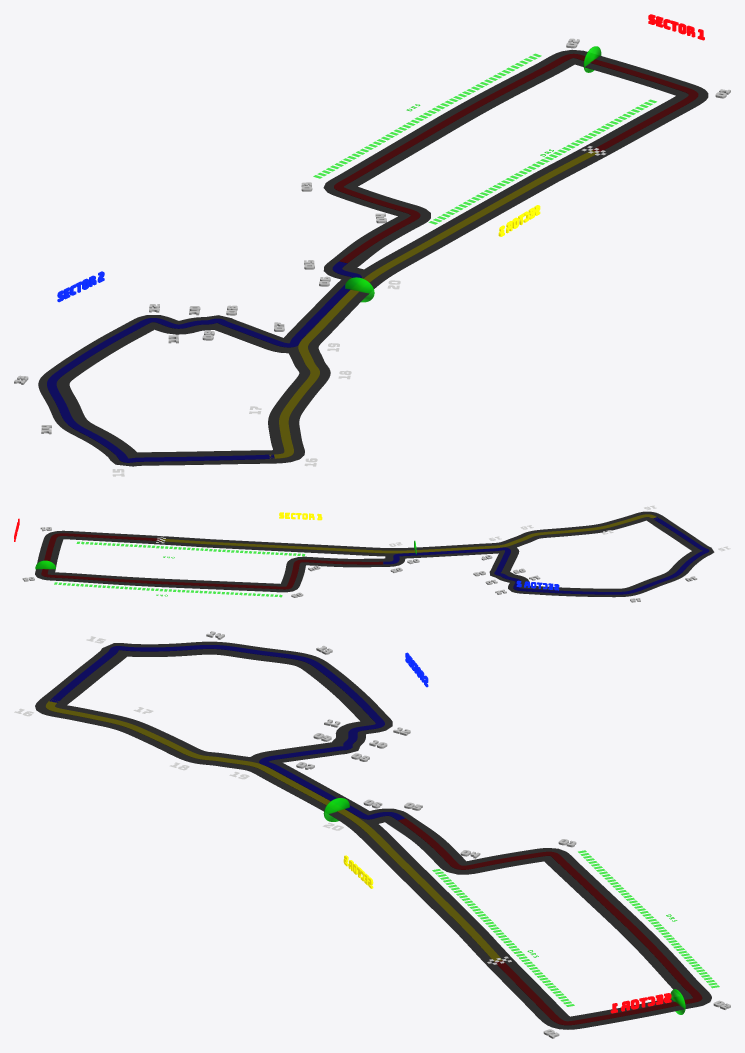
File: baku.gltf
The picture shows the model from 3 angles, top to bottom: view 1: azimuth 30°, elevation 25°; view 2: azimuth 150°, elevation 25°; view 3: azimuth 270°, elevation 25°; orthographic projection. The views are drawn at different scales.
Visible parts, largest first — view 1: track plane, track plane.001, track plane.002, track plane.003, DRSPlane1.001, DRSPlane1.002; view 2: track plane, track plane.001, track plane.002, track plane.003, DRSPlane1.001, DRSPlane1.002, Text.001, Text.002; view 3: track plane, track plane.001, track plane.002, track plane.003, DRSPlane1.001, DRSPlane1.002.
Part boxes in pixels (box(x1,y1,x2,y2)): track plane: box(38, 49, 708, 466); track plane.001: box(334, 53, 698, 263); track plane.002: box(47, 261, 361, 462); track plane.003: box(269, 150, 598, 458); DRSPlane1.001: box(428, 99, 656, 224); DRSPlane1.002: box(313, 53, 541, 178); track plane: box(35, 511, 714, 597); track plane.001: box(41, 533, 382, 589); track plane.002: box(383, 517, 709, 594); track plane.003: box(161, 514, 657, 553); DRSPlane1.001: box(76, 541, 305, 556); DRSPlane1.002: box(54, 582, 282, 597); Text.001: box(516, 580, 559, 590); Text.002: box(279, 512, 322, 520); track plane: box(35, 641, 711, 1029); track plane.001: box(398, 818, 702, 1025); track plane.002: box(49, 645, 404, 820); track plane.003: box(45, 699, 501, 961); DRSPlane1.001: box(432, 869, 574, 1006); DRSPlane1.002: box(578, 850, 719, 988).
Size of the model in its own units: 146 by 7.56 by 108.
